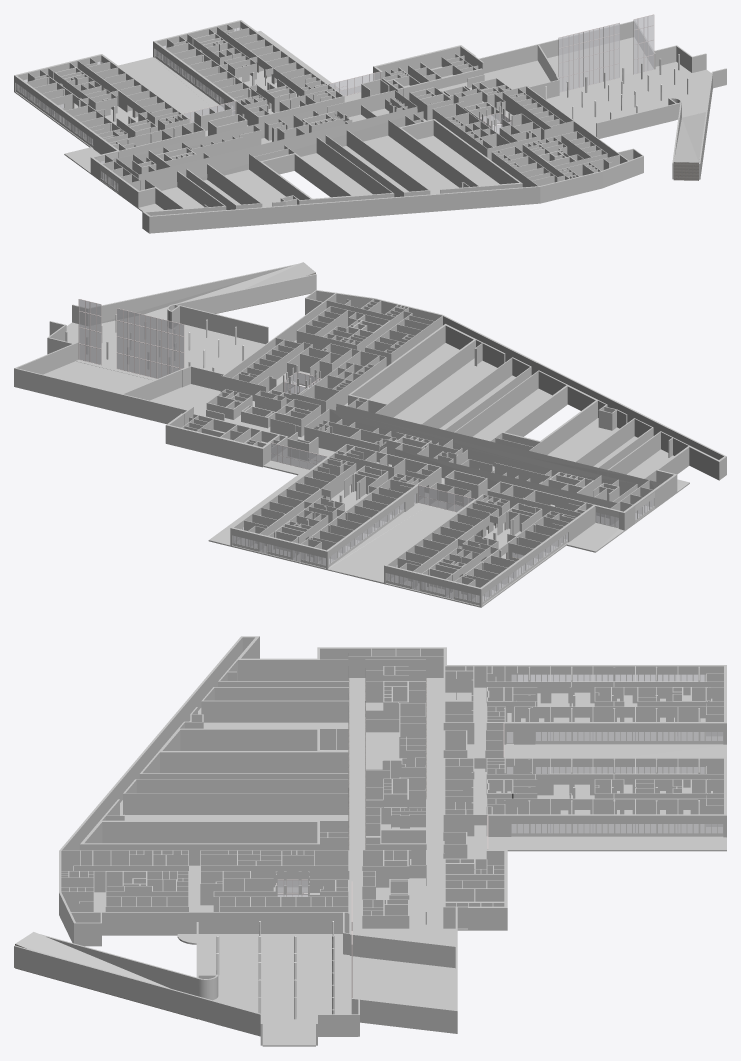
The model's file is Ebene 99_26.09.218.fbx.
3 renders of one model, top to bottom at view 1: azimuth 30°, elevation 25°; view 2: azimuth 150°, elevation 25°; view 3: azimuth 270°, elevation 25°, orthographic. The views are drawn at different scales.
Parts seen in each view (by area): view 1: Farbe, weiß, Glas Normalglas, Metall Aluminium, matt, Fensterrahmen, Beton, Sichtbeton 2, Stadtplanung Modellkörper; view 2: Farbe, weiß, Glas Normalglas, Fensterrahmen, Metall Aluminium, matt; view 3: Farbe, weiß, Glas Normalglas, Fensterrahmen, Beton, Sichtbeton 2, Stadtplanung Modellkörper.
Boxes of the visible parts, bbox=[...] form: Farbe, weiß: bbox=[14, 20, 726, 233]; Glas Normalglas: bbox=[16, 15, 653, 190]; Metall Aluminium, matt: bbox=[184, 14, 654, 134]; Fensterrahmen: bbox=[16, 27, 509, 192]; Beton, Sichtbeton 2: bbox=[673, 162, 698, 180]; Stadtplanung Modellkörper: bbox=[545, 68, 688, 119]; Farbe, weiß: bbox=[14, 262, 726, 607]; Glas Normalglas: bbox=[79, 299, 654, 602]; Fensterrahmen: bbox=[232, 375, 654, 605]; Metall Aluminium, matt: bbox=[78, 299, 474, 512]; Farbe, weiß: bbox=[14, 636, 726, 1046]; Glas Normalglas: bbox=[277, 674, 722, 896]; Fensterrahmen: bbox=[283, 650, 723, 896]; Beton, Sichtbeton 2: bbox=[15, 678, 426, 1019]; Stadtplanung Modellkörper: bbox=[216, 921, 333, 1019].
Bounding box in the file's own units: 18915 × 14699 × 1738.
11 materials, 3 textured.
